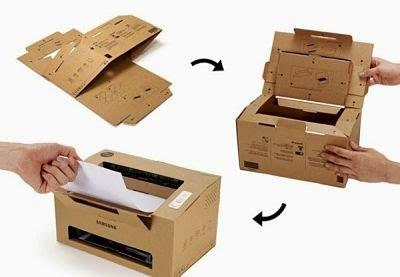kardus: (52, 150, 215, 273), (245, 32, 361, 184), (27, 16, 174, 122)
